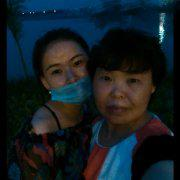NONE: (97, 70, 147, 123)
WRONG: (45, 53, 94, 104)
